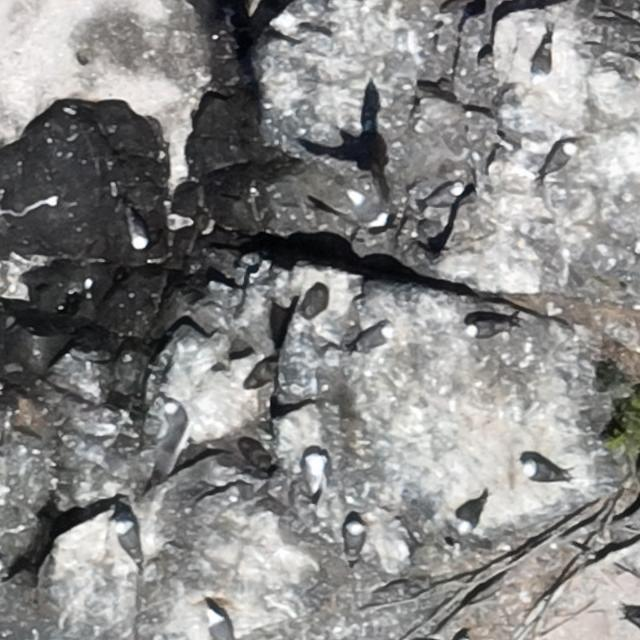F: (333, 188, 398, 232)
umineko: (160, 400, 192, 425), (354, 328, 390, 350), (117, 523, 139, 559), (458, 500, 483, 530), (428, 185, 462, 205), (526, 463, 560, 483), (209, 612, 233, 640), (549, 144, 573, 171), (344, 521, 362, 555), (467, 321, 500, 338), (305, 456, 321, 491), (129, 219, 147, 248), (534, 44, 550, 74)
